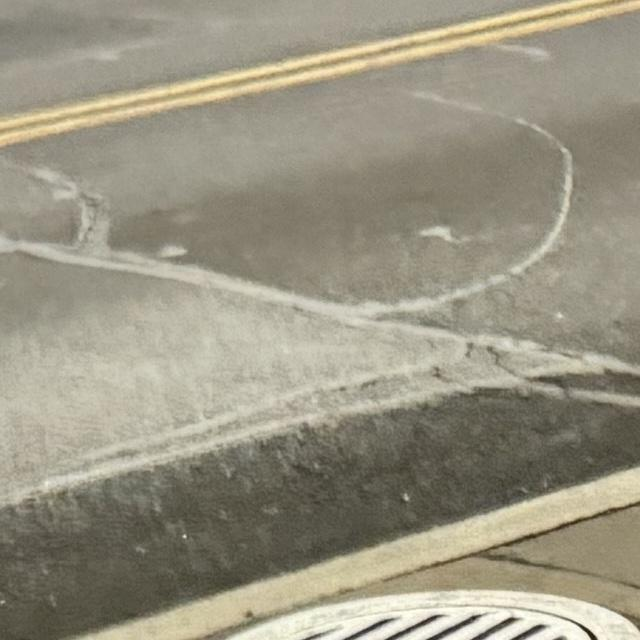curb: (80, 467, 639, 639)
